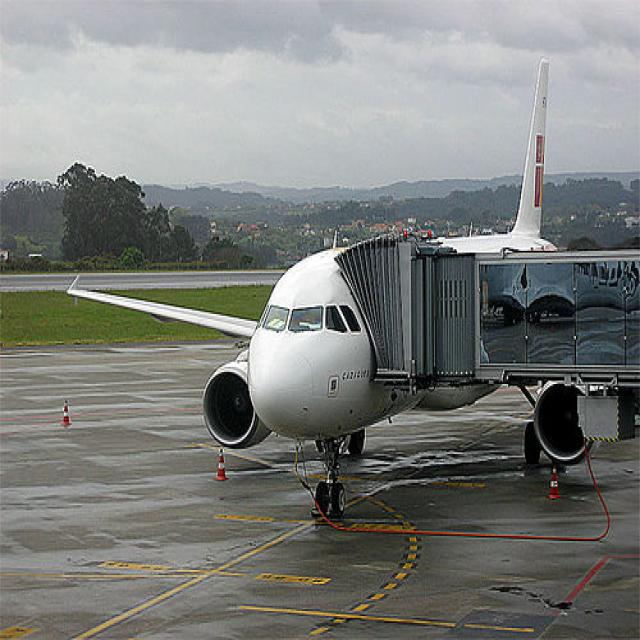aeroplane: (56, 27, 615, 523)
